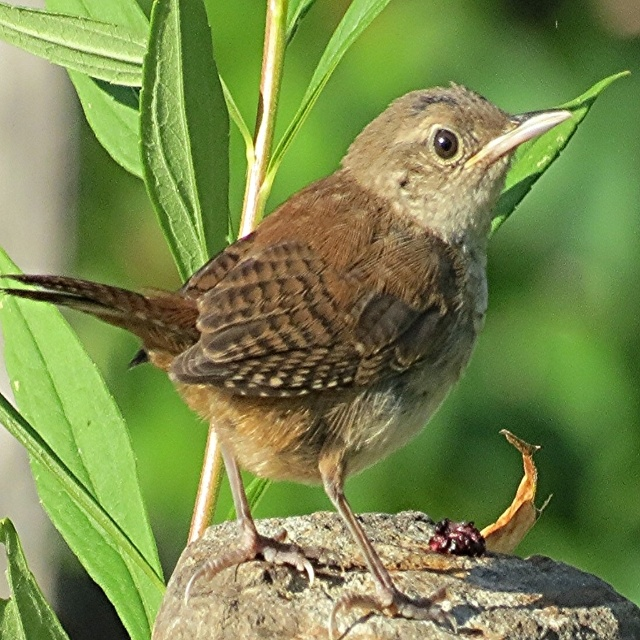Sparrow: (0, 81, 572, 640)
